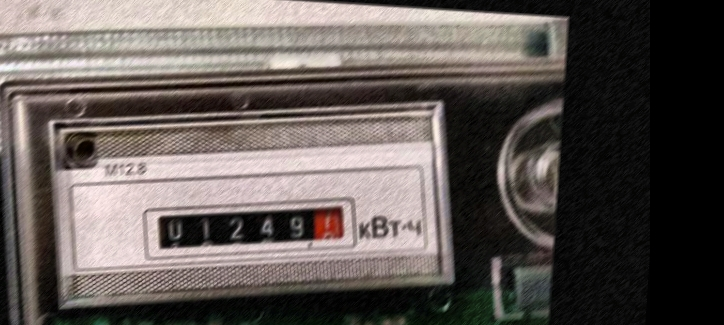0: (163, 214, 184, 241)
1: (195, 215, 212, 241)
2: (225, 215, 247, 242)
4: (258, 211, 277, 239)
7: (318, 207, 335, 232)
9: (287, 213, 306, 239)
screen: (134, 187, 371, 277)
